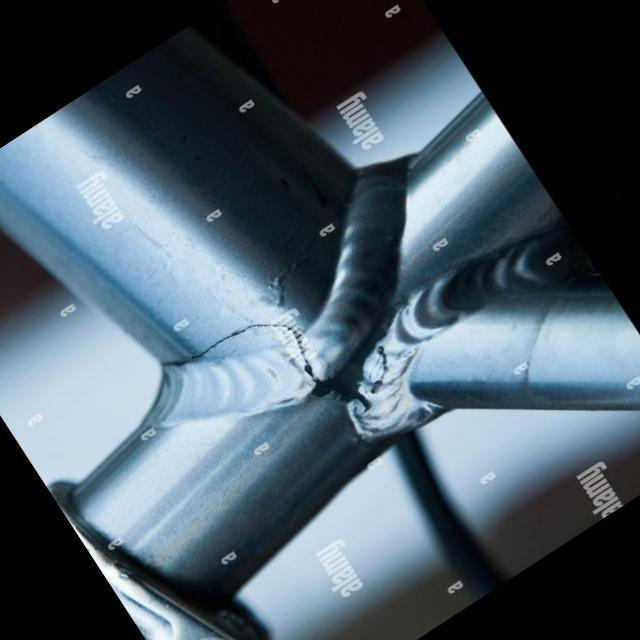defect: (148, 317, 321, 383), (366, 337, 392, 396)
